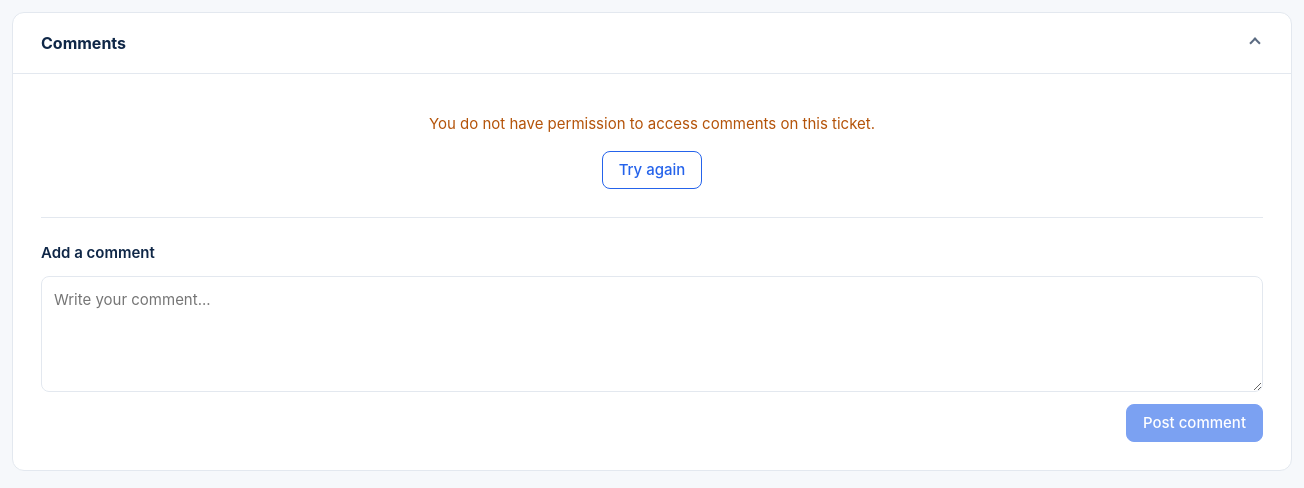
Test: TicketCommentsComponent › displays load errors and retries without permitting posts against an incomplete timeline
Type "A draft" into the text box labelled "Add a comment".
click(652, 334); type("A draft")  # box [41,276,1263,392]
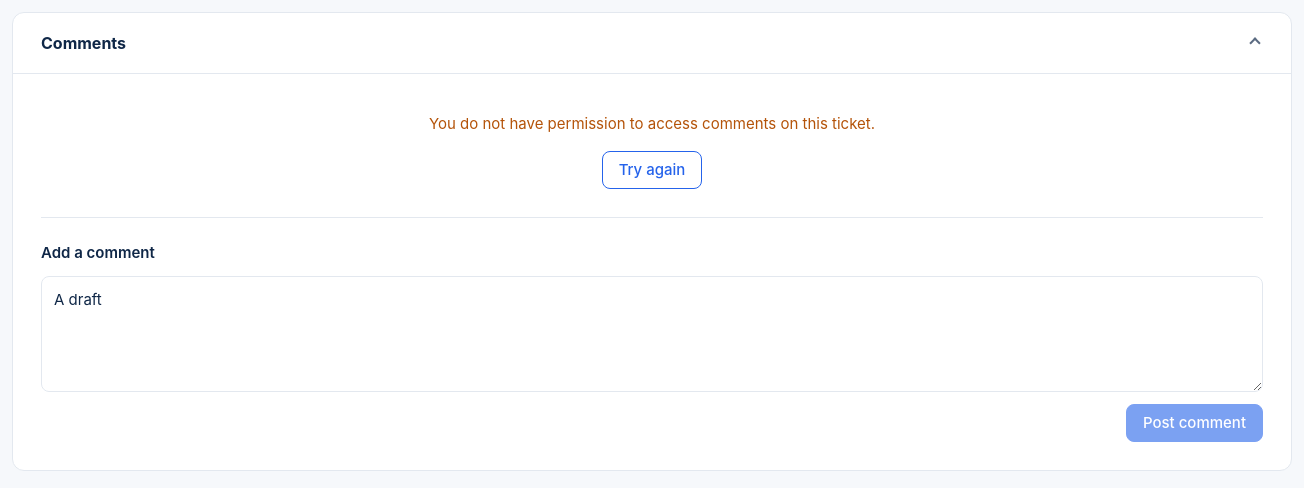
Check: the submit button is disabled, box [1126,404,1263,442]
Click the button with class "secondary".
click(652, 170)  # box [602,150,702,188]
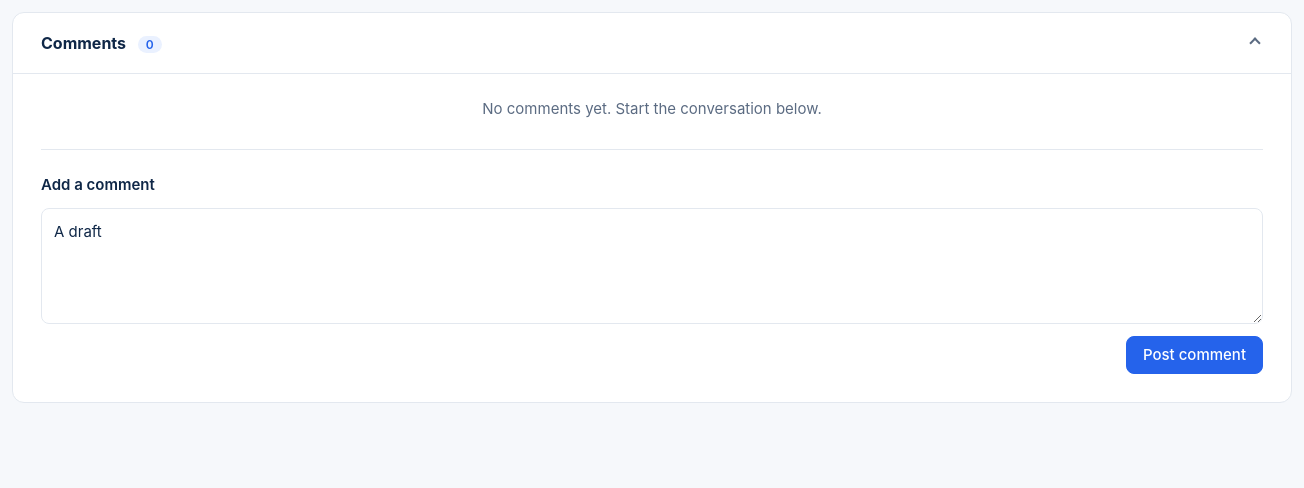
Check: the submit button is enabled, box [1126,336,1263,374]
